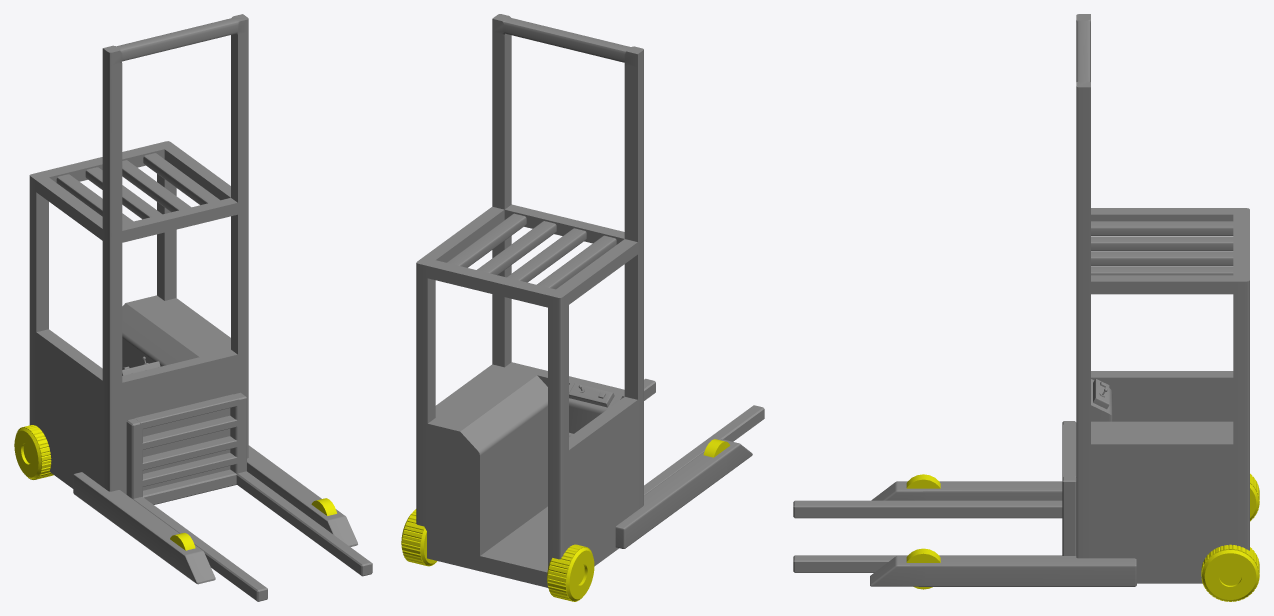
The model's file is Forklift.fbx.
The picture shows the model from 3 angles, left to right: view 1: azimuth 30°, elevation 25°; view 2: azimuth 150°, elevation 25°; view 3: azimuth 270°, elevation 25°; orthographic projection. The views are drawn at different scales.
Parts seen in each view (by area): view 1: Forklift, backwheel1; view 2: Forklift, backwheel1, backwheel; view 3: Forklift, backwheel.
Boxes of the visible parts, <box> form: Forklift: <box>29,14,372,601</box>; backwheel1: <box>14,425,53,479</box>; Forklift: <box>416,14,764,587</box>; backwheel1: <box>547,544,594,601</box>; backwheel: <box>401,509,437,566</box>; Forklift: <box>793,14,1249,586</box>; backwheel: <box>1201,544,1259,601</box>.
Size of the model in its own units: 153 by 423 by 350.
